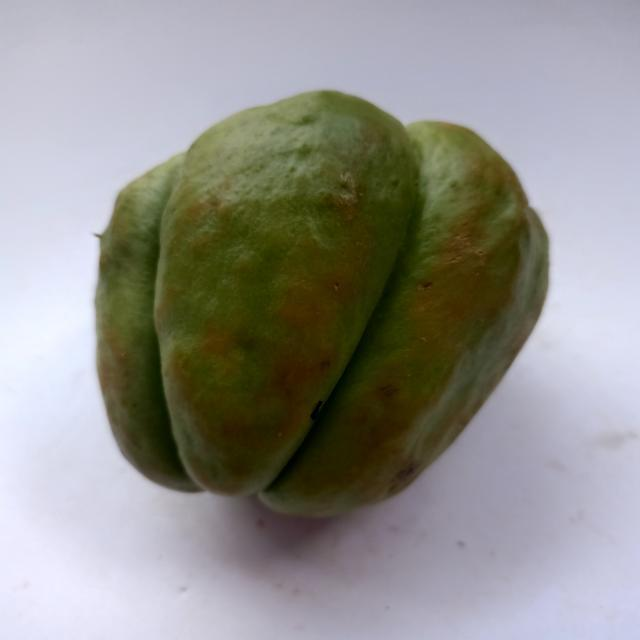Chayote: (68, 77, 560, 534)
